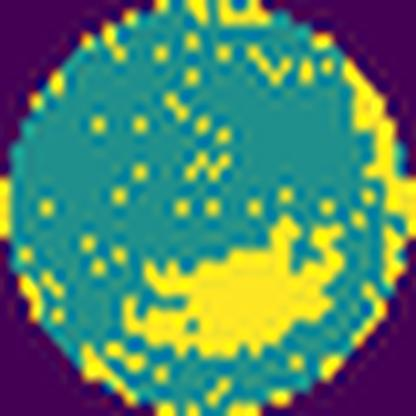Edge-Loc: (124, 215, 344, 356)
